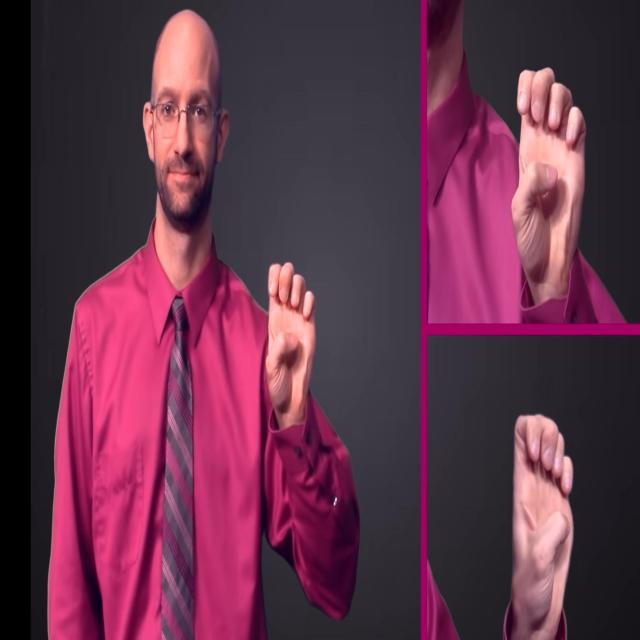E: (509, 62, 589, 291), (505, 409, 577, 640), (262, 259, 320, 426)
